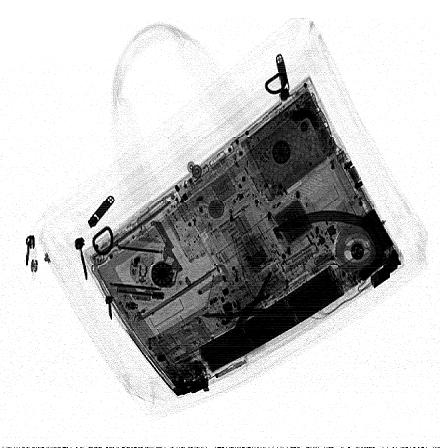Scissors: (198, 266, 293, 349)
